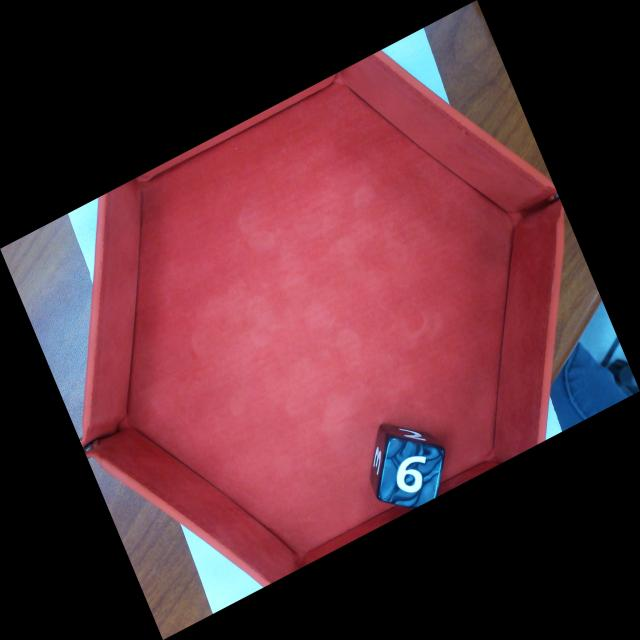dice: (384, 435, 442, 505)
